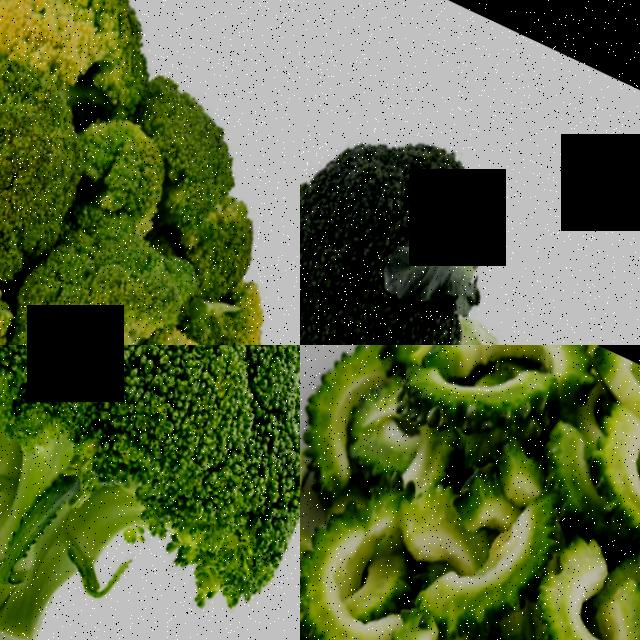bitter gourd: (300, 345, 640, 640)
broccoli: (300, 7, 640, 345), (0, 0, 300, 345), (0, 345, 300, 640)
